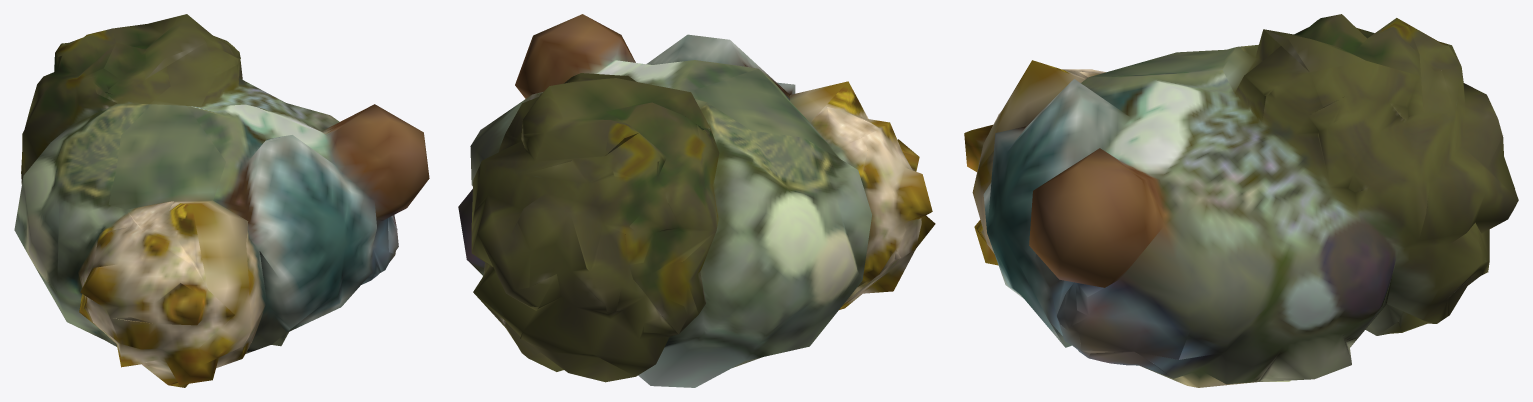
Rendered from chernobog_growth_01.fbx.
3 renders of one model, left to right at view 1: azimuth 30°, elevation 25°; view 2: azimuth 150°, elevation 25°; view 3: azimuth 270°, elevation 25°, orthographic. The views are drawn at different scales.
Visible parts, largest first — view 1: Chernobog_Growth_01; view 2: Chernobog_Growth_01; view 3: Chernobog_Growth_01.
Part boxes in pixels (<box>): Chernobog_Growth_01: <box>14,14,429,387</box>; Chernobog_Growth_01: <box>458,14,935,387</box>; Chernobog_Growth_01: <box>964,14,1518,387</box>.
Size of the model in its own units: 97.25 by 70.8 by 106.
